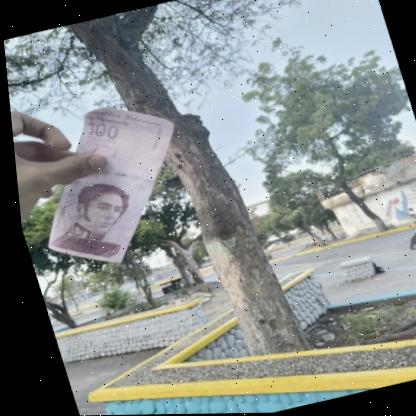one_hundred-front-vef: (7, 91, 209, 278)
